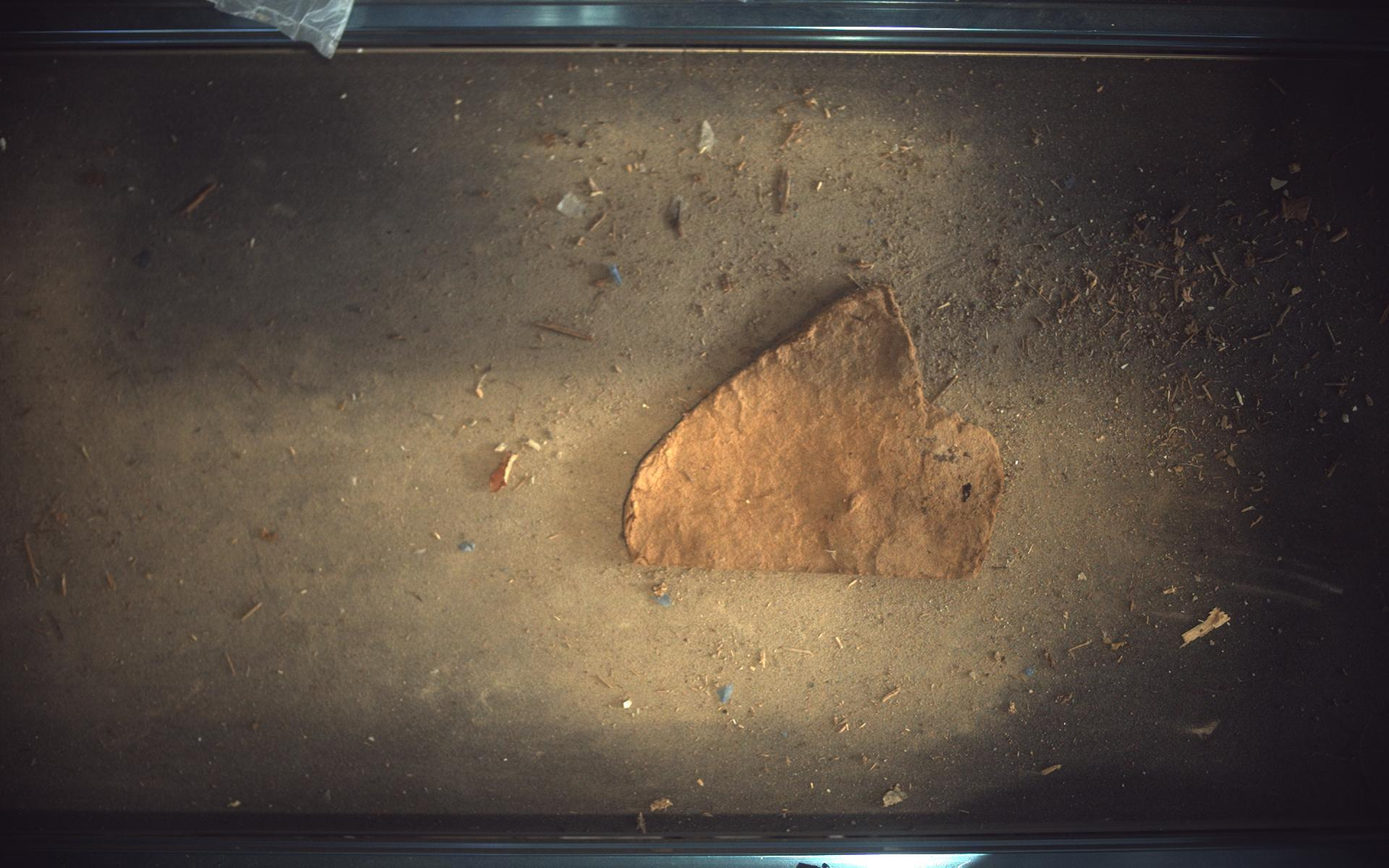wood: (624, 285, 1006, 579)
